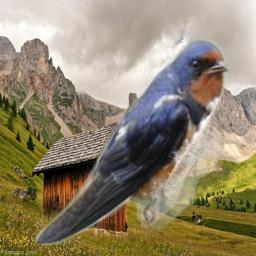Swallow: (35, 37, 230, 245)
